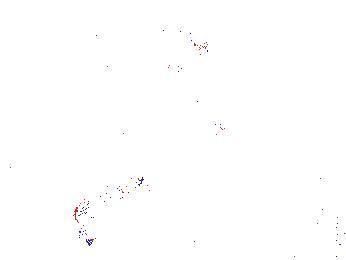glassfish: (74, 175, 146, 234), (212, 120, 303, 157)
red belly glassfish: (179, 31, 211, 58), (121, 20, 171, 37), (148, 60, 184, 74)
